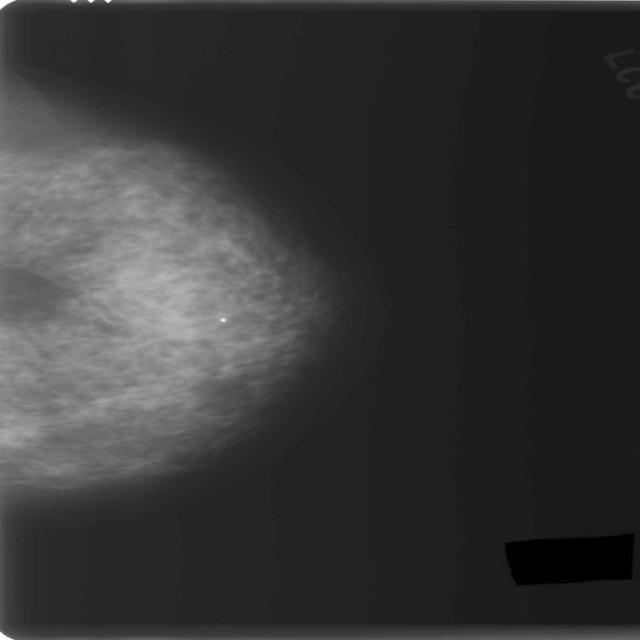tumour: (154, 310, 195, 341)
